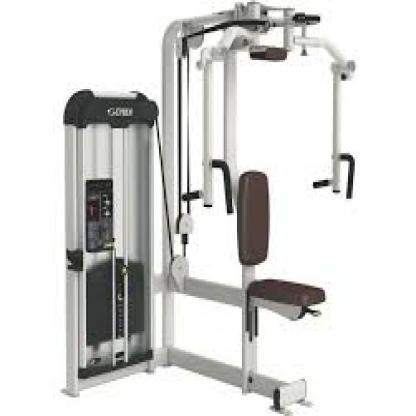chest fly machine: (56, 0, 361, 416)
